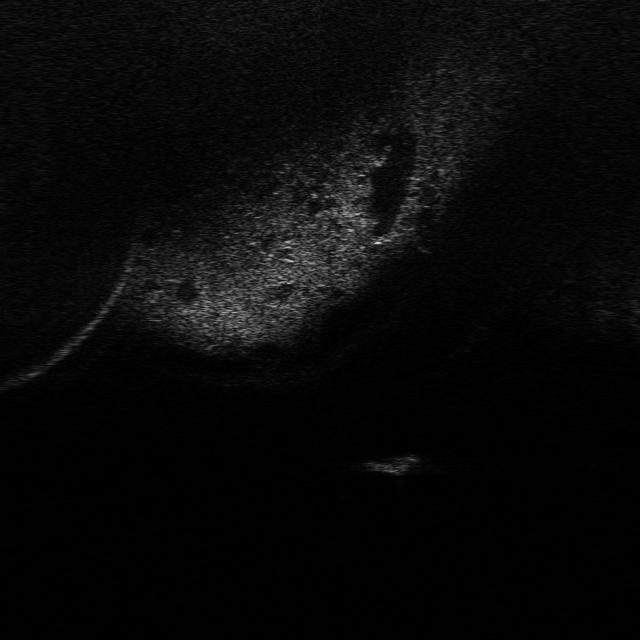cube: (363, 451, 421, 475)
